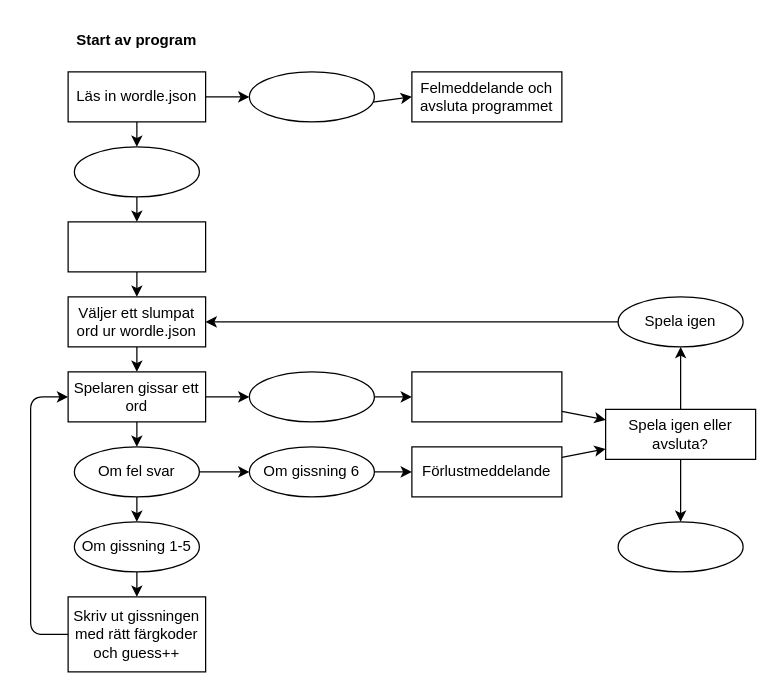
Some shapes in this 778 by 694 pixel diagram are drawn without their labels. Here are the shapes that lost their labels. From the top down, the centre of each, then its label:
At (x=311, y=96): "Om ej giltig".
At (x=136, y=171): "Om giltig".
At (x=136, y=246): "Visa instruktioner".
At (x=311, y=396): "Om rätt svar".
At (x=486, y=396): "Vinstmeddelande".
At (x=680, y=546): "Avsluta programmet".
